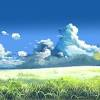field: (1, 65, 100, 100)
sky: (1, 1, 99, 63)
